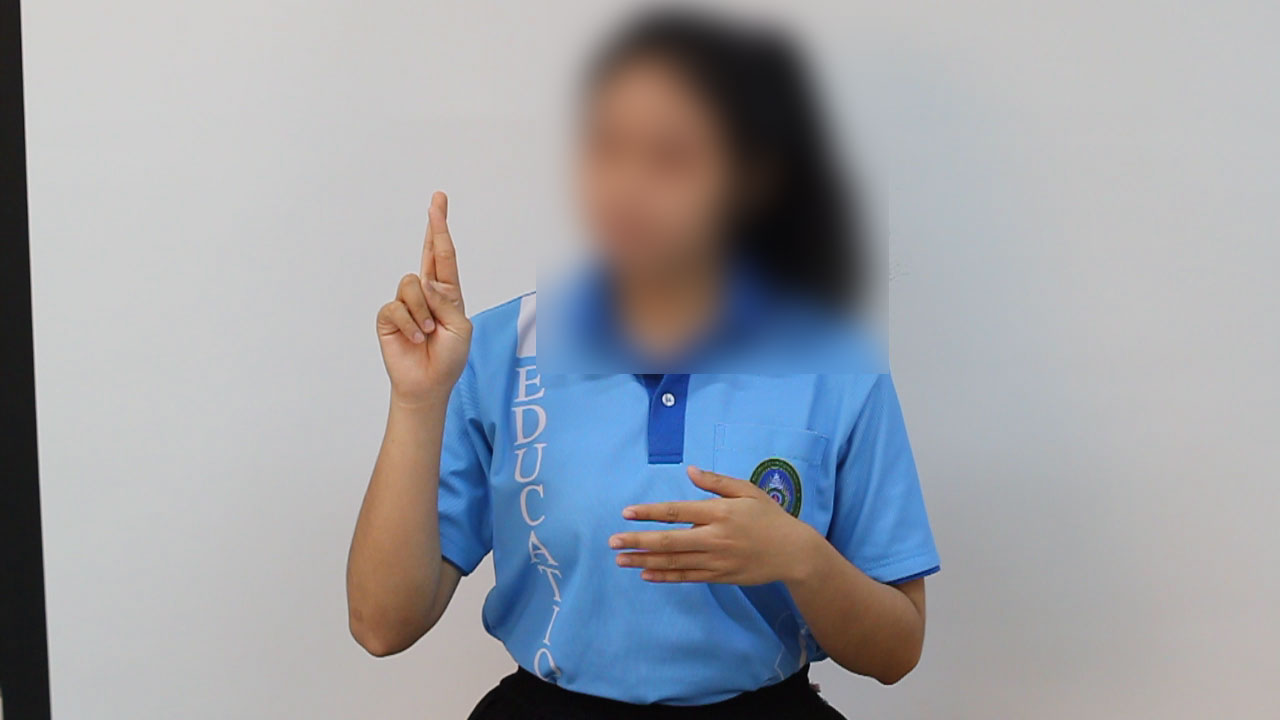rao: (362, 180, 483, 421)
